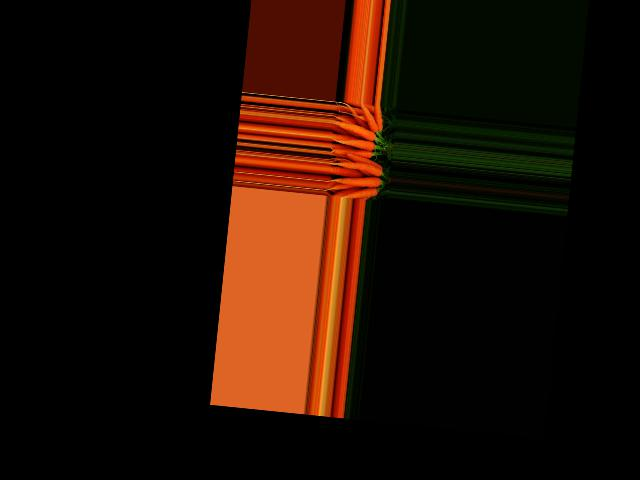carrot: (328, 170, 381, 191)
